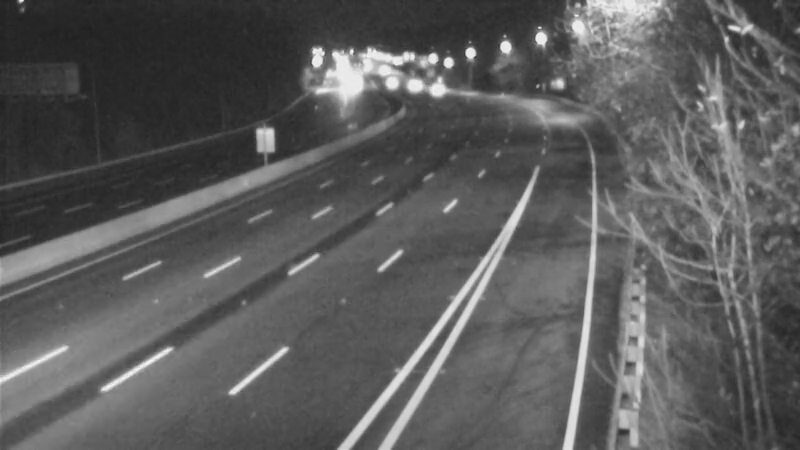vehicle: (364, 59, 414, 109), (388, 61, 438, 111), (412, 66, 462, 116)
